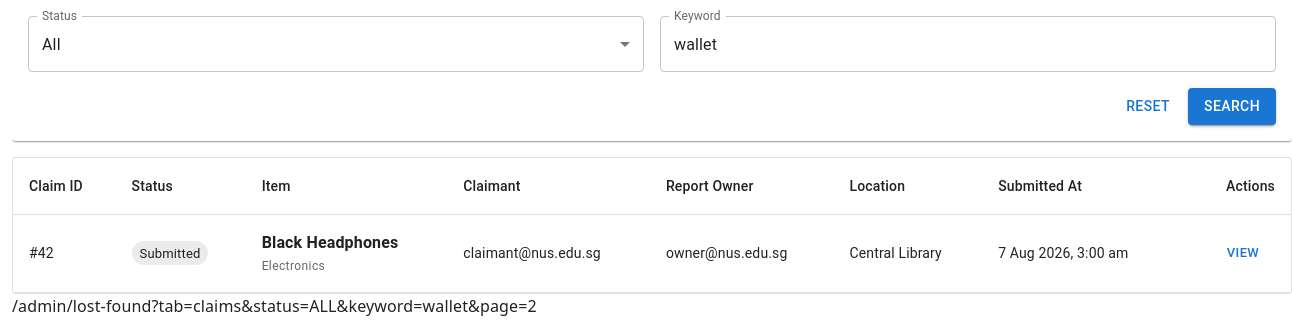
AdminClaimsSection › resets filters to the default submitted queue
Expected: the text "Black Headphones" is shown, [262,232,398,252]
Click the button "Reset" at (1148, 106), box [1116,88,1180,124]
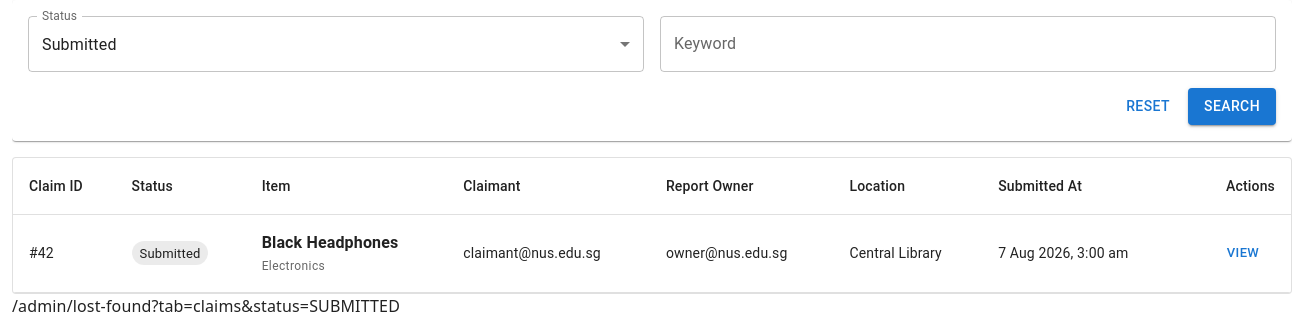
Result: the text named "Current location" reads "/admin/lost-found?tab=claims&status=SUBMITTED" at [12,295,400,317]
